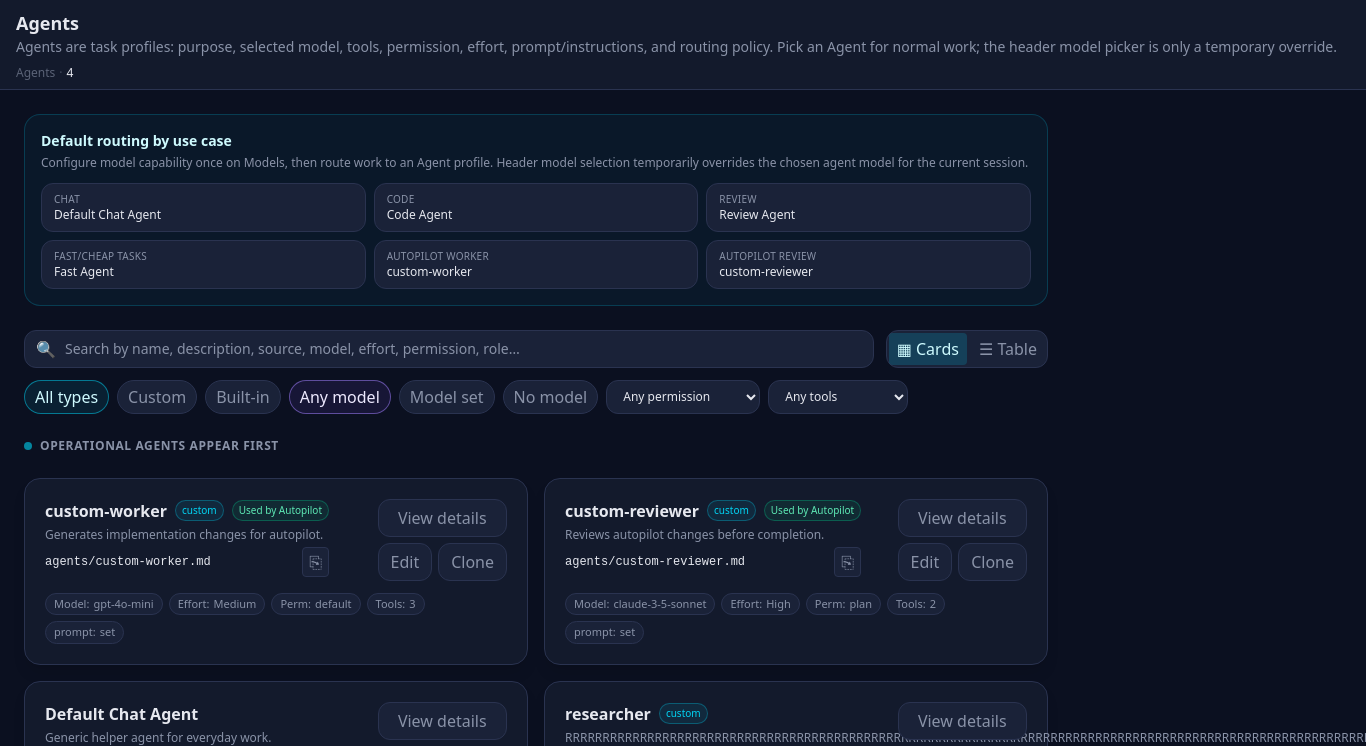
Test case: AgentsSettingsPage › opens detail modal and expands system prompt via expand button
This screenshot has width=1366, height=746.
Check: the text "Default Chat Agent" is shown, box [54,206,161,222]
// Click View details to open Default Chat Agent's detail modal
Click the button "View details" next to "Generic helper agent for everyday work." at (442, 720), box [378,702,507,740]
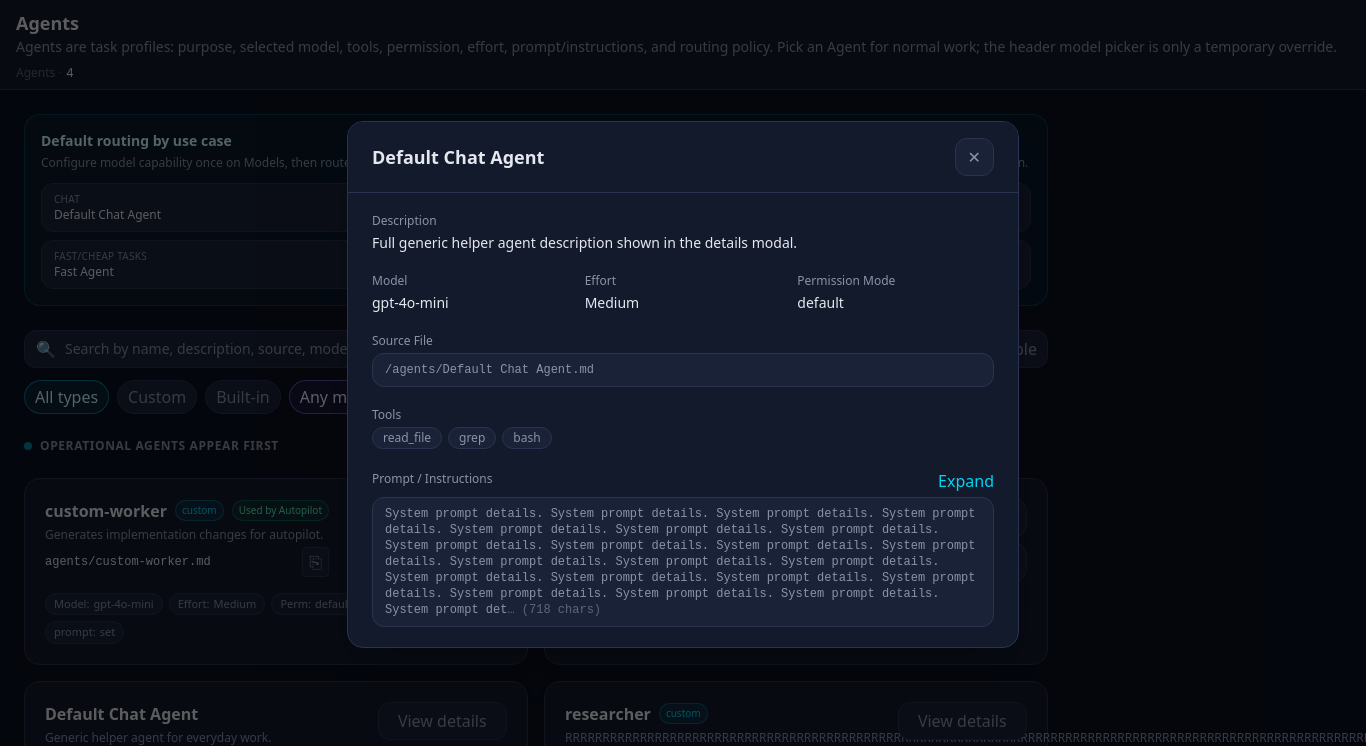
Check: the button "Expand" is shown
// Click the expand button to open the system prompt full-screen modal
Click the button "Expand" at (966, 480), box [938,468,994,492]
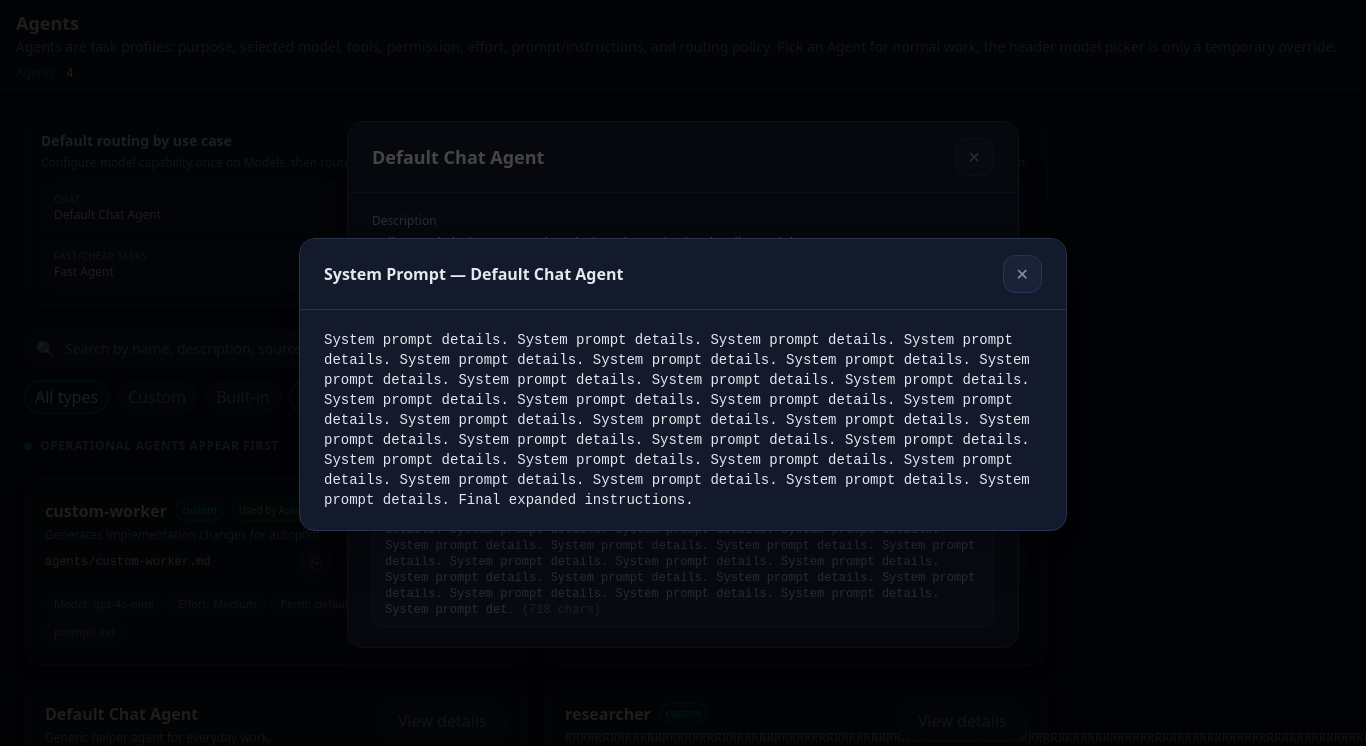
Check: the text "Final expanded instructions" is shown, box [324,332,1038,508]
Check: the heading "System Prompt — Default Chat Agent" is shown, box [324,262,623,286]
